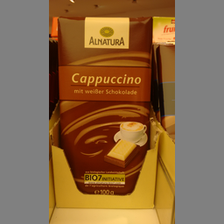chocolate: (59, 17, 150, 197)
